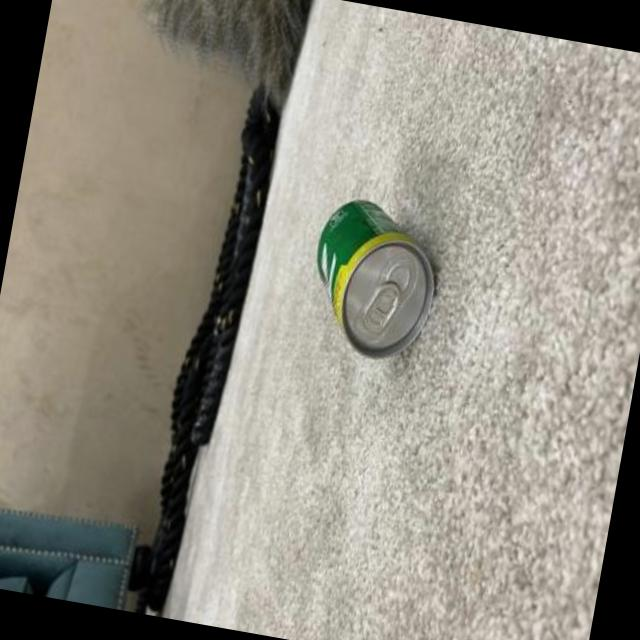metal: (314, 201, 431, 358)
